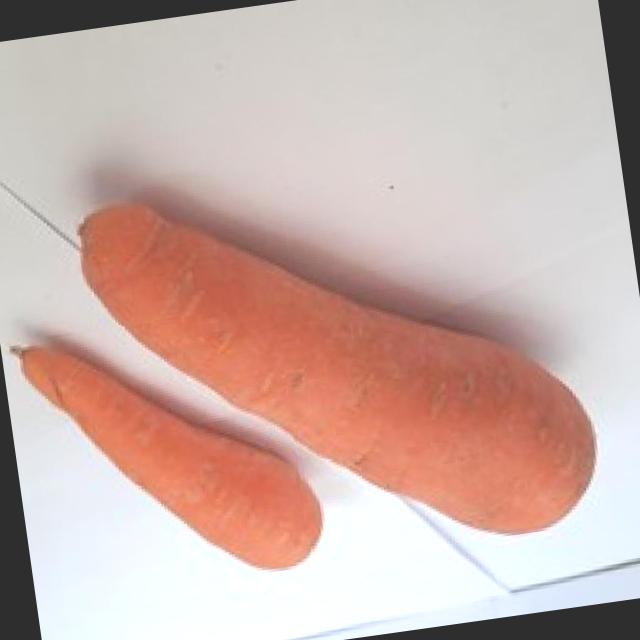carrot: (81, 207, 596, 534), (20, 348, 323, 570)
